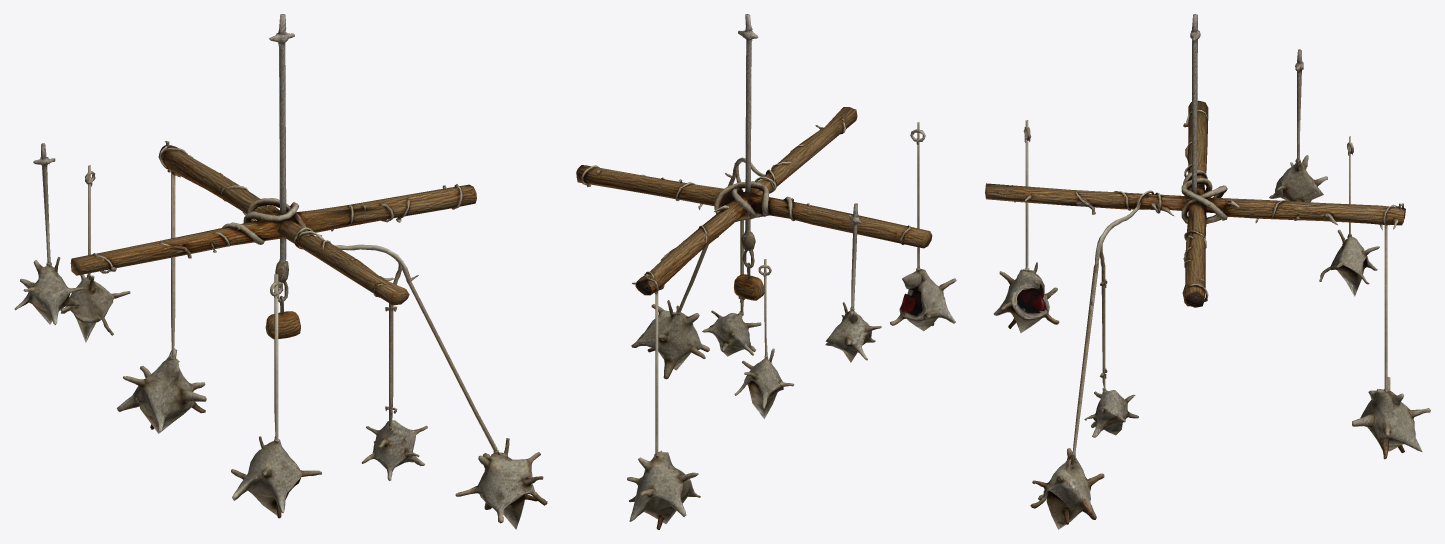
3 views of the same model, side by side, from view 1: azimuth 30°, elevation 25°; view 2: azimuth 150°, elevation 25°; view 3: azimuth 270°, elevation 25° (orthographic). The views are drawn at different scales.
Parts seen in each view (by area): view 1: tripo_node_38de422d-06d2-47b5-9354-fc17e33b7680; view 2: tripo_node_38de422d-06d2-47b5-9354-fc17e33b7680; view 3: tripo_node_38de422d-06d2-47b5-9354-fc17e33b7680.
Part boxes in pixels (bbox=[...]): tripo_node_38de422d-06d2-47b5-9354-fc17e33b7680: bbox=[14, 14, 547, 529]; tripo_node_38de422d-06d2-47b5-9354-fc17e33b7680: bbox=[576, 14, 956, 529]; tripo_node_38de422d-06d2-47b5-9354-fc17e33b7680: bbox=[985, 14, 1430, 529].
Bounding box in the file's own units: 0.8301 × 0.998 × 0.9043.
1 material, 1 textured.
